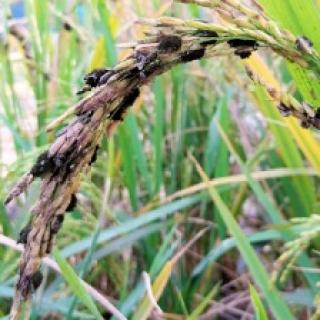Gosong-Palsu: (110, 89, 139, 120), (31, 150, 53, 176), (229, 40, 257, 57), (84, 70, 109, 86), (157, 36, 180, 53), (180, 47, 204, 61), (31, 271, 41, 290), (193, 30, 217, 36)
